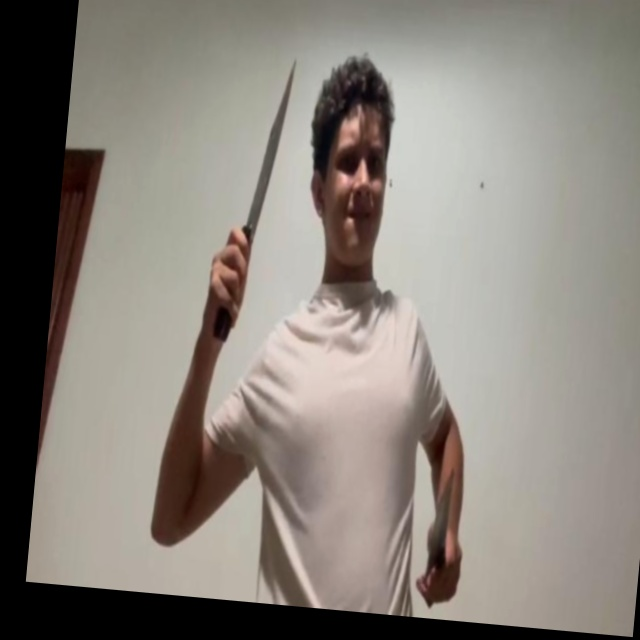Sharp-Object: (245, 57, 298, 237), (426, 465, 456, 577)
